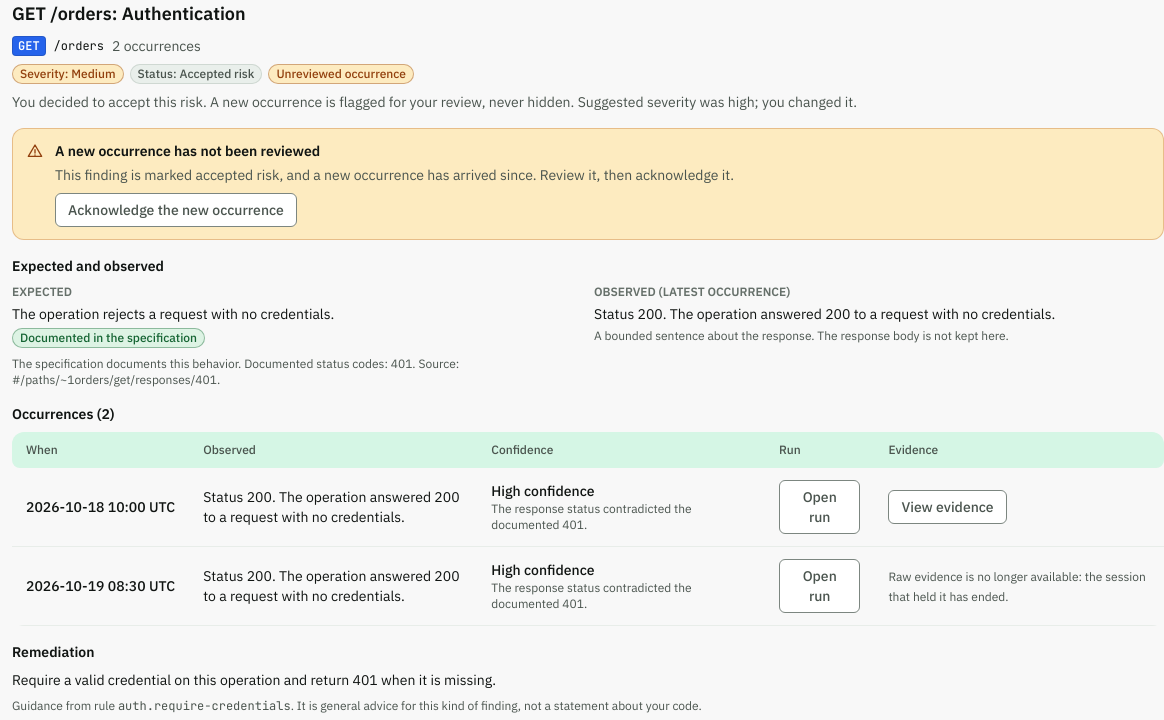
Test: FindingDetail accessibility (T124, CLAUDE.md section 38) › gives every button, field, select and summary an accessible name, with the evidence open
Step 1. Click the button with aria-label "View the evidence of the occurrence at 2026-10-18" → (948, 507), box x1=888 y1=490 x2=1007 y2=524
(page scrolled)
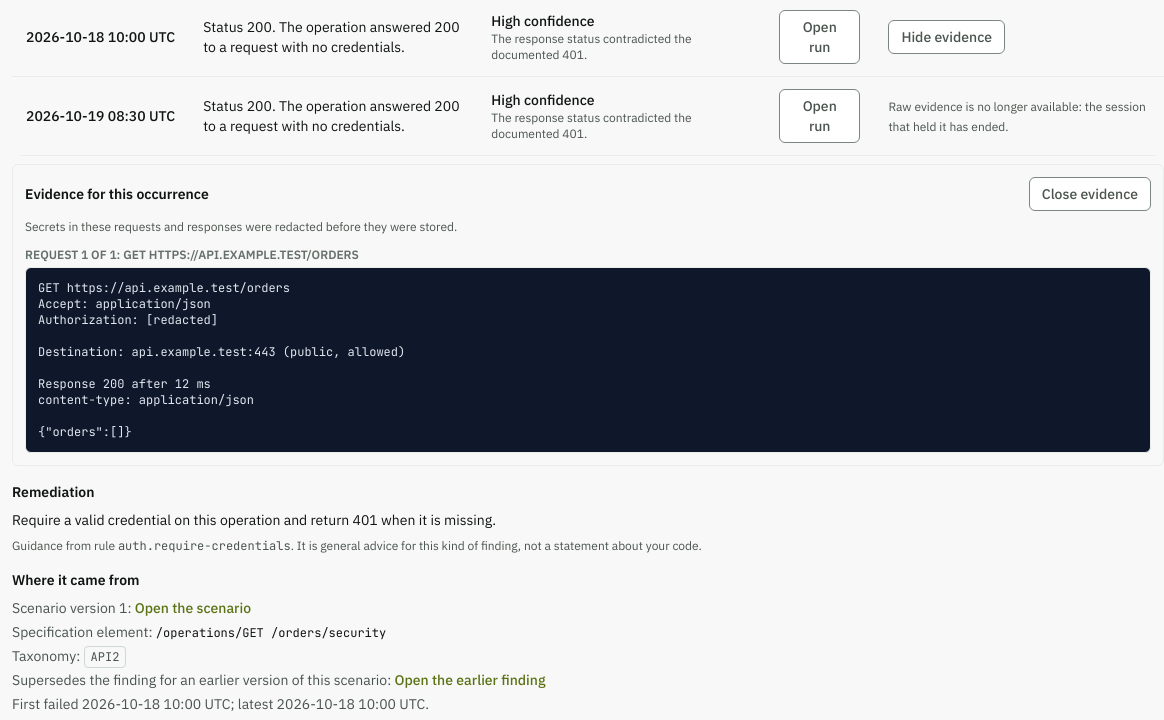
Check: the element with test id "code-block" is shown, box x1=25 y1=267 x2=1151 y2=453
